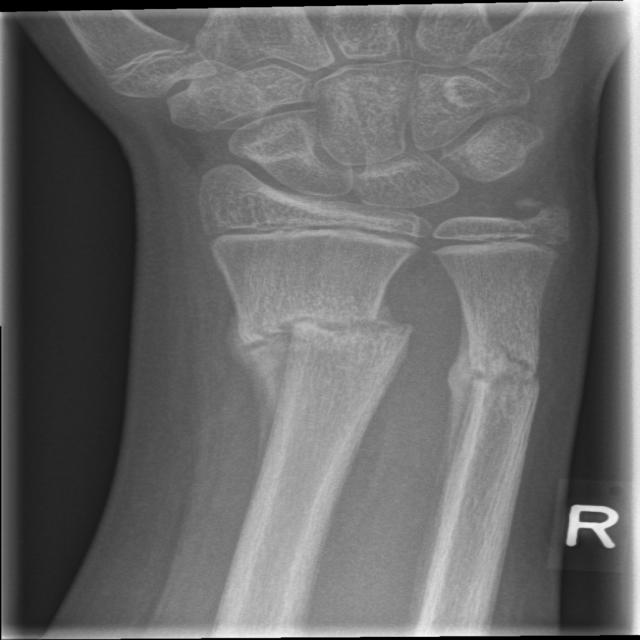radius fracture: (201, 284, 432, 452)
ulna fracture: (421, 286, 577, 464)
